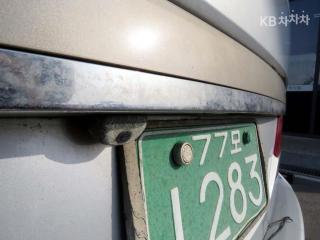1: (158, 181, 192, 240)
2: (192, 167, 230, 239)
3: (243, 154, 265, 208)
7: (192, 132, 213, 166), (213, 130, 229, 161)
8: (225, 161, 248, 223)
plate: (119, 123, 289, 240)
모: (229, 128, 242, 154)
